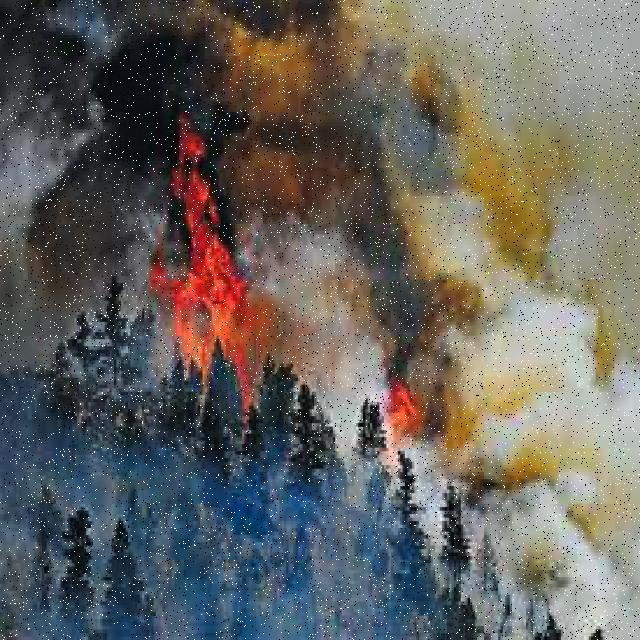fire: (164, 137, 262, 379), (395, 387, 429, 443)
